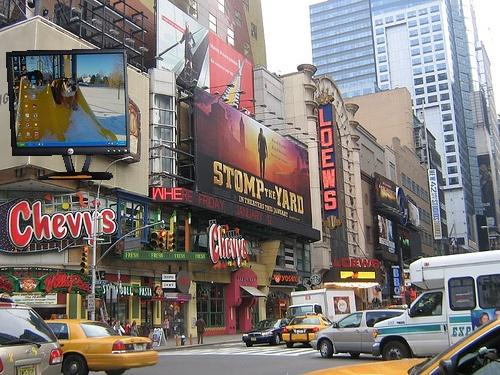tampered: (7, 49, 130, 180)
